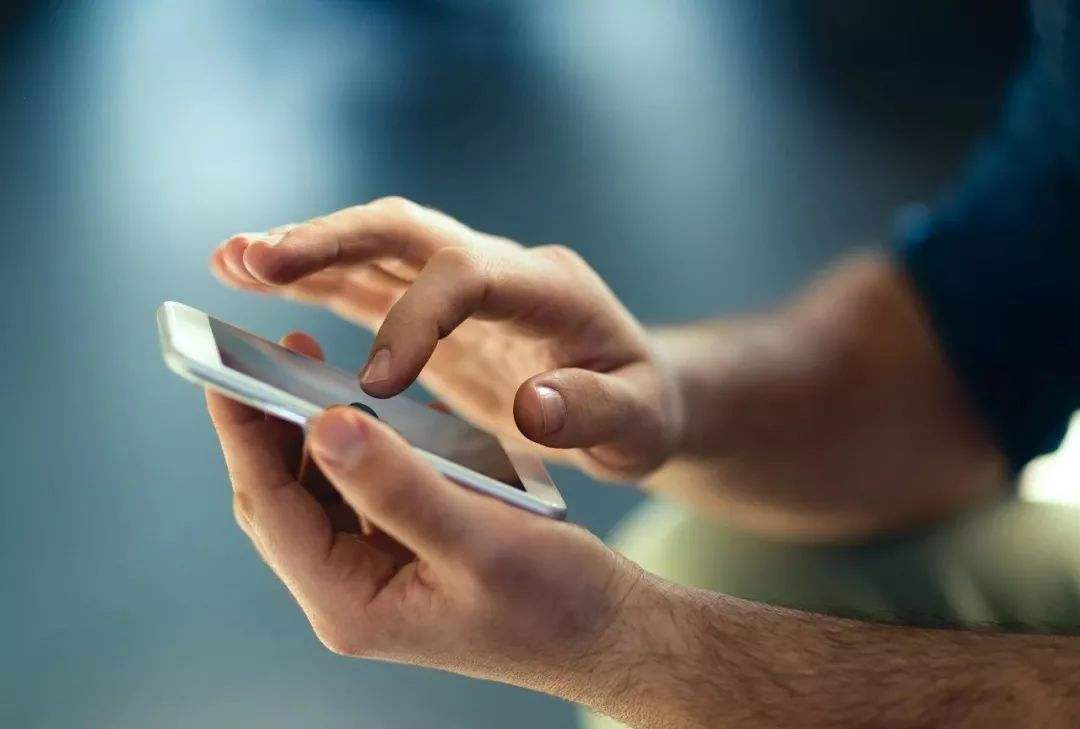reading: (148, 187, 730, 715)
